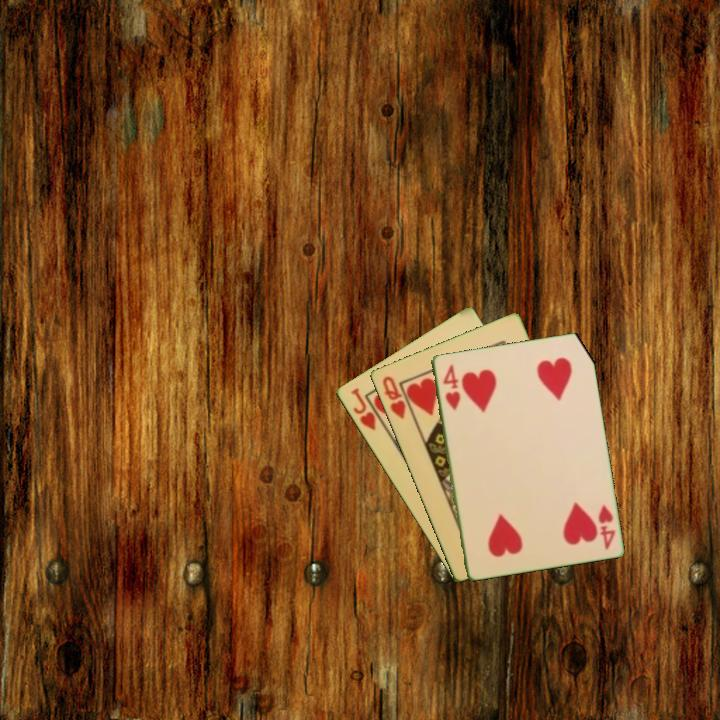4h: (439, 360, 463, 413), (594, 501, 618, 552)
Jh: (347, 384, 378, 433)
Qh: (379, 372, 408, 422)
